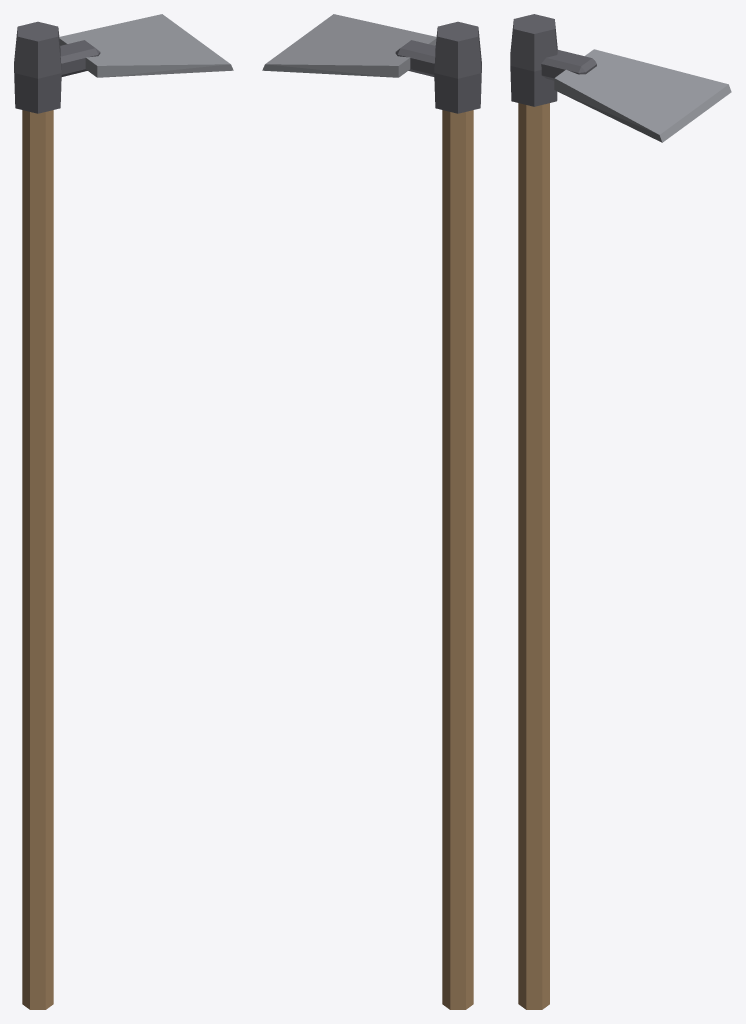
File: tool_hoe.glb
3 renders of one model, left to right at view 1: azimuth 30°, elevation 25°; view 2: azimuth 150°, elevation 25°; view 3: azimuth 330°, elevation 25°, orthographic.
Parts seen in each view (by area): view 1: Tool; view 2: Tool; view 3: Tool.
Boxes of the visible parts, <box> form: Tool: <box>14,14,233,1009</box>; Tool: <box>262,14,481,1009</box>; Tool: <box>510,14,731,1009</box>.
Bounding box in the file's own units: 0.327 × 1.64 × 0.21.
